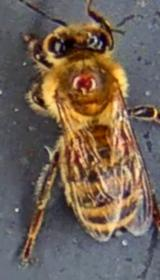varroa_mite: (62, 66, 113, 98)
